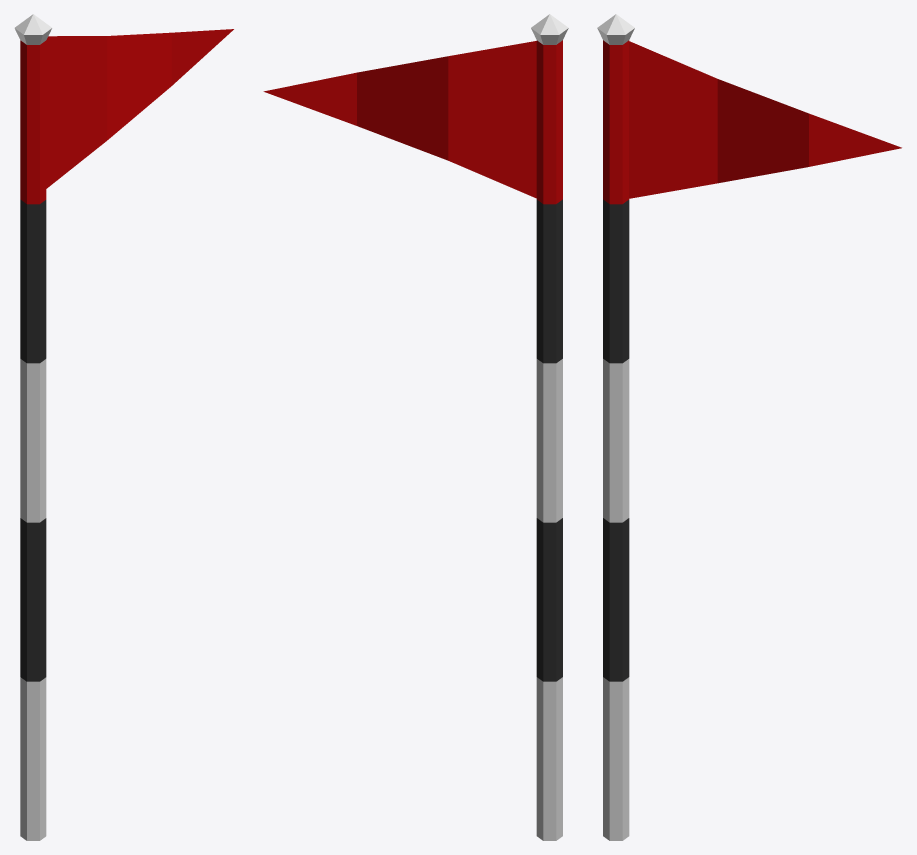
File: golf-flag_01.fbx
3 views of the same model, side by side, from view 1: azimuth 30°, elevation 25°; view 2: azimuth 150°, elevation 25°; view 3: azimuth 330°, elevation 25° (orthographic).
Parts seen in each view (by area): view 1: golf-flag_01, golf-flag_01-2; view 2: golf-flag_01, golf-flag_01-2; view 3: golf-flag_01, golf-flag_01-2.
Part boxes in pixels (x1,y1,x2,y2): golf-flag_01: (14, 14, 51, 840); golf-flag_01-2: (46, 29, 233, 188); golf-flag_01: (531, 14, 568, 840); golf-flag_01-2: (263, 41, 536, 198); golf-flag_01: (597, 14, 634, 840); golf-flag_01-2: (629, 41, 901, 198).
Bounding box in the file's own units: 67.88 × 207 × 23.79.
